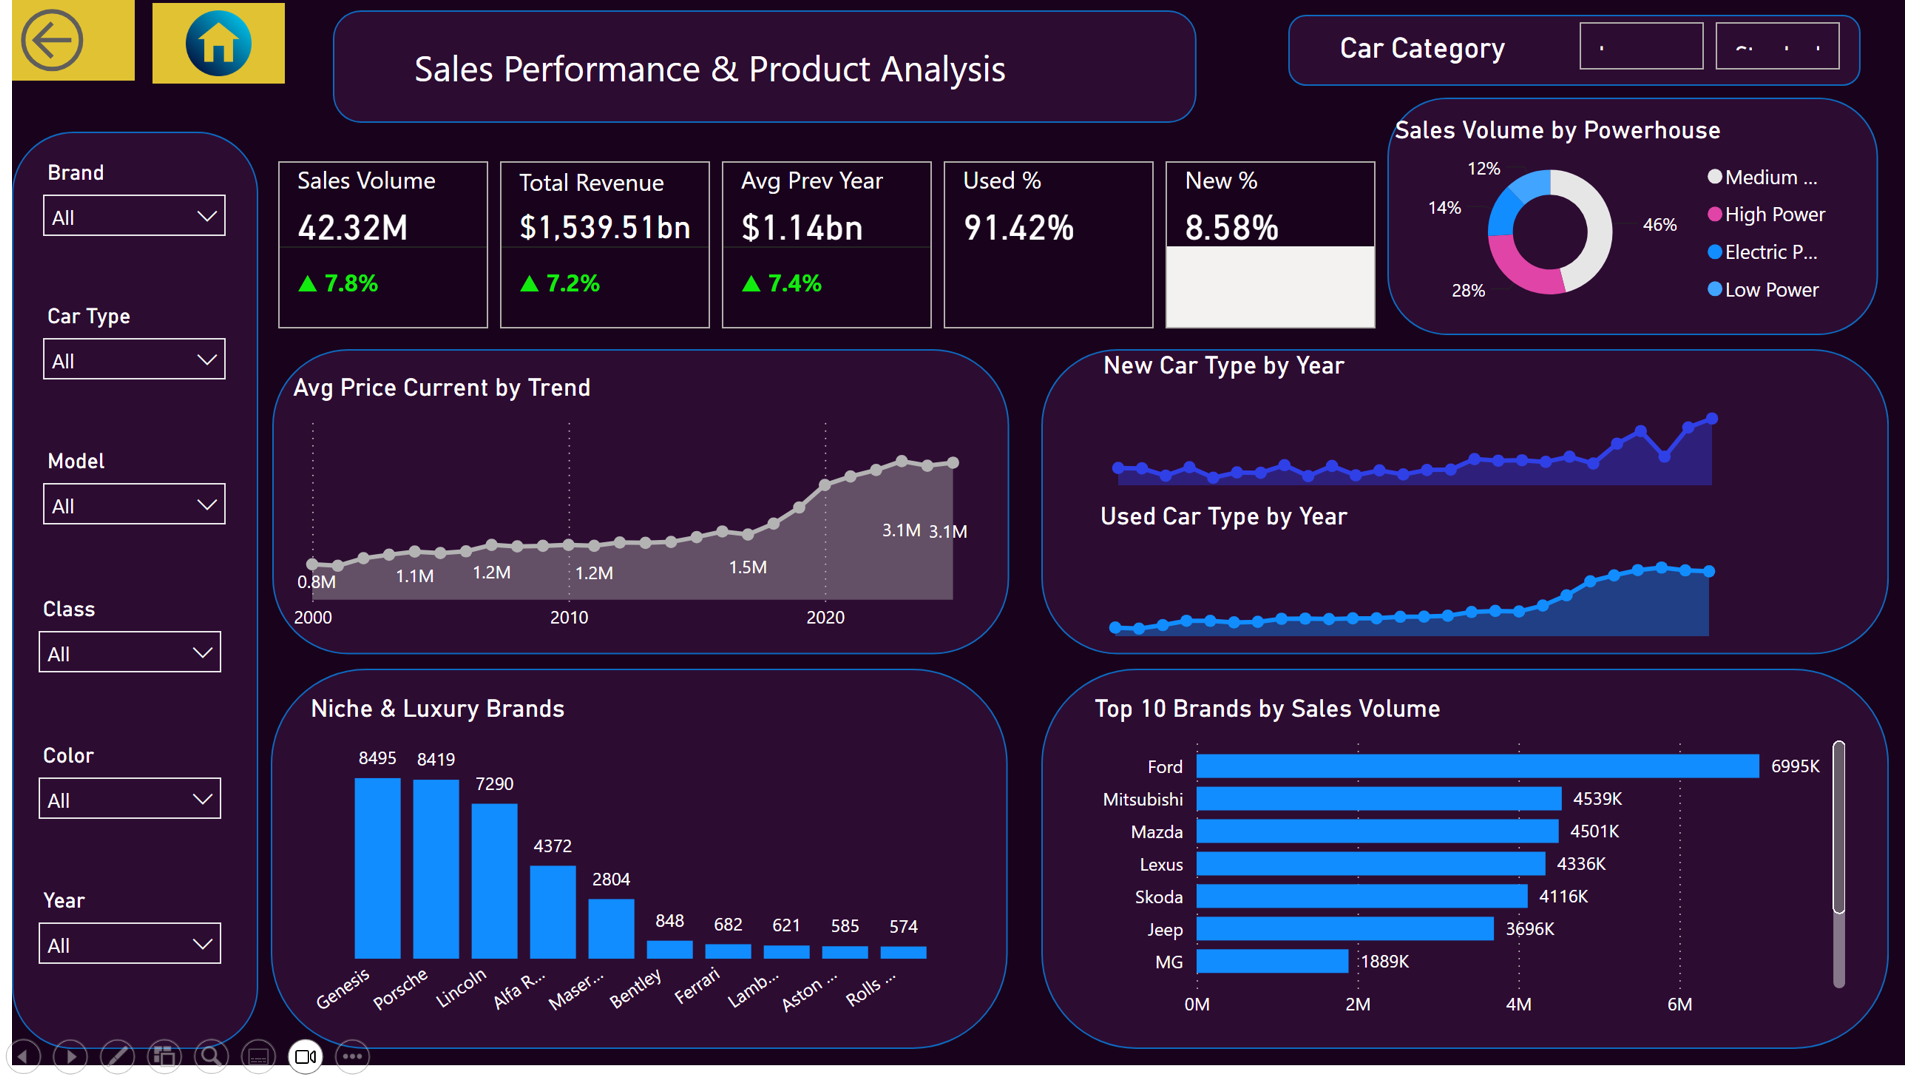

This screenshot's page, from the dashboard's own definition file:
{"tool":"powerbi","page":{"name":"Sales Performance","canvas":[1280,720],"ordinal":3},"visuals":[{"type":"shape","box":[205.1,7.2,444,76],"z":0},{"type":"textbox","box":[214.7,18.1,424.7,61.5],"z":1000},{"type":"shape","box":[669.6,9.7,580.3,70],"z":2000},{"type":"shape","box":[0,89.3,166.5,620.1],"z":3000},{"type":"shape","box":[948.3,91.7,308.8,150.8],"z":4000},{"type":"slicer","fields":{"Values":["Full Raw Data.Brand"]},"box":[10.6,103.3,143.6,85.7],"z":5000},{"type":"slicer","fields":{"Values":["Full Raw Data.Car_Type"]},"box":[10.6,199.8,143.6,85.7],"z":6000},{"type":"slicer","fields":{"Values":["Full Raw Data.Class"]},"box":[8.4,398.1,143.6,85.7],"z":7000},{"type":"advancedSlicerVisual","fields":{"Values":["Full Raw Data.Car_Category"]},"box":[1056.8,24.1,188.2,43.4],"z":8000},{"type":"slicer","fields":{"Values":["Full Raw Data.Color"]},"box":[8.4,497.1,143.6,85.7],"z":9000},{"type":"slicer","fields":{"Values":["Full Raw Data.Model"]},"box":[10.6,297.5,143.6,85.7],"z":10000},{"type":"slicer","fields":{"Values":["Calender.Year"]},"box":[8.4,594.8,143.6,74.8],"z":11000},{"type":"textbox","box":[913.5,29.6,139.7,37.6],"z":12000},{"type":"donutChart","fields":{"Category":["Full Raw Data.Fuel_Type"],"Y":["Sum(Full Raw Data.Sales_Volume)"]},"box":[966.4,96.5,272.7,138.7],"z":13000},{"type":"shape","box":[174.9,242.5,506.7,199.1],"z":14000},{"type":"shape","box":[696.1,463.3,573.1,246.1],"z":15000},{"type":"clusteredColumnChart","fields":{"Category":["Full Raw Data.Class"],"Y":["Sum(Full Raw Data.Sales_Volume)"],"Series":["Full Raw Data.Car_Type"]},"box":[205.1,250.9,454.8,178.6],"z":16000},{"type":"map","title":"Brand Performance by Region","fields":{"Category":["Full Raw Data.Region"],"Size":["Sum(Full Raw Data.Sales_Volume)"]},"box":[176.1,441.6,505.5,267.8],"z":17000},{"type":"actionButton","box":[0,0,83.2,54.3],"z":18000},{"type":"cardVisual","fields":{"Data":["Count(Full Raw Data.Brand)","Sum(Full Raw Data.Sales_Volume)","Sum(Full Raw Data.Total Revenue)","Calculation.Previous Avg Price"]},"box":[174.9,103.8,761.3,123.1],"z":19000},{"type":"image","box":[95.3,2.4,89.3,54.3],"z":20000},{"type":"textbox","box":[685.3,25.3,84.5,38.6],"z":21000},{"type":"slicer","fields":{"Values":["Full Raw Data.Region"]},"box":[769.7,18.1,143.6,56.7],"z":22000},{"type":"columnChart","title":"Top 10 Total Revenue by Brand","fields":{"Category":["Full Raw Data.Brand"],"Y":["Sum(Full Raw Data.Total Revenue)"]},"box":[711.8,487.4,538.1,199.1],"z":23000},{"type":"shape","box":[707,248.5,562.2,203.9],"z":24000},{"type":"columnChart","title":"Top 10 Total Revenue by Region","fields":{"Category":["Full Raw Data.Region"],"Y":["Sum(Full Raw Data.Total Revenue)"]},"box":[725.1,259.4,538.1,182.2],"z":25000}]}

Visuals, with their boxes on the page's 1280x720 design canvas (x1, y1, x2, y2). These are canvas units, not pixel positions in the 1920x1080 screenshot, which may show the page scaled, cropped or inside an application window:
shape: x1=205, y1=7, x2=649, y2=83
textbox: x1=215, y1=18, x2=639, y2=80
shape: x1=670, y1=10, x2=1250, y2=80
shape: x1=0, y1=89, x2=166, y2=709
shape: x1=948, y1=92, x2=1257, y2=242
slicer - Full Raw Data.Brand: x1=11, y1=103, x2=154, y2=189
slicer - Full Raw Data.Car_Type: x1=11, y1=200, x2=154, y2=286
slicer - Full Raw Data.Class: x1=8, y1=398, x2=152, y2=484
advancedSlicerVisual - Full Raw Data.Car_Category: x1=1057, y1=24, x2=1245, y2=68
slicer - Full Raw Data.Color: x1=8, y1=497, x2=152, y2=583
slicer - Full Raw Data.Model: x1=11, y1=298, x2=154, y2=383
slicer - Calender.Year: x1=8, y1=595, x2=152, y2=670
textbox: x1=914, y1=30, x2=1053, y2=67
donutChart - Full Raw Data.Fuel_Type x Sum(Full Raw Data.Sales_Volume): x1=966, y1=96, x2=1239, y2=235
shape: x1=175, y1=242, x2=682, y2=442
shape: x1=696, y1=463, x2=1269, y2=709
clusteredColumnChart - Full Raw Data.Class x Sum(Full Raw Data.Sales_Volume): x1=205, y1=251, x2=660, y2=430
"Brand Performance by Region" map: x1=176, y1=442, x2=682, y2=709
actionButton: x1=0, y1=0, x2=83, y2=54
cardVisual - Count(Full Raw Data.Brand) x Sum(Full Raw Data.Sales_Volume): x1=175, y1=104, x2=936, y2=227
image: x1=95, y1=2, x2=185, y2=57
textbox: x1=685, y1=25, x2=770, y2=64
slicer - Full Raw Data.Region: x1=770, y1=18, x2=913, y2=75
"Top 10 Total Revenue by Brand" columnChart: x1=712, y1=487, x2=1250, y2=686
shape: x1=707, y1=248, x2=1269, y2=452
"Top 10 Total Revenue by Region" columnChart: x1=725, y1=259, x2=1263, y2=442
